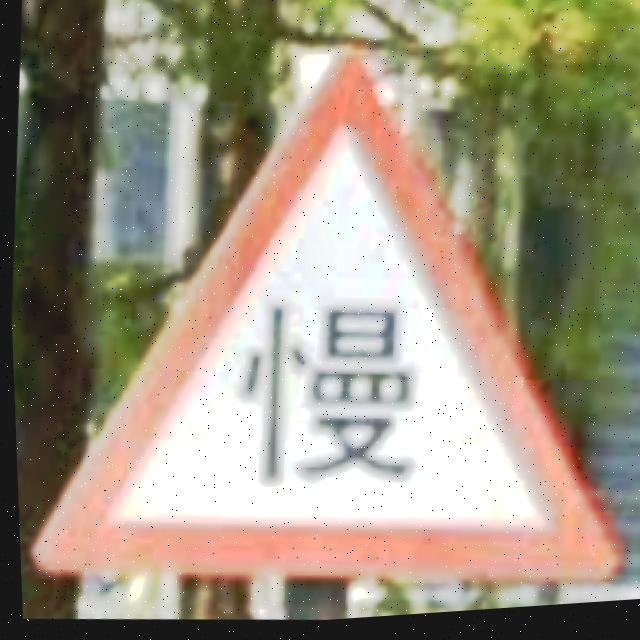slow: (26, 54, 616, 589)
